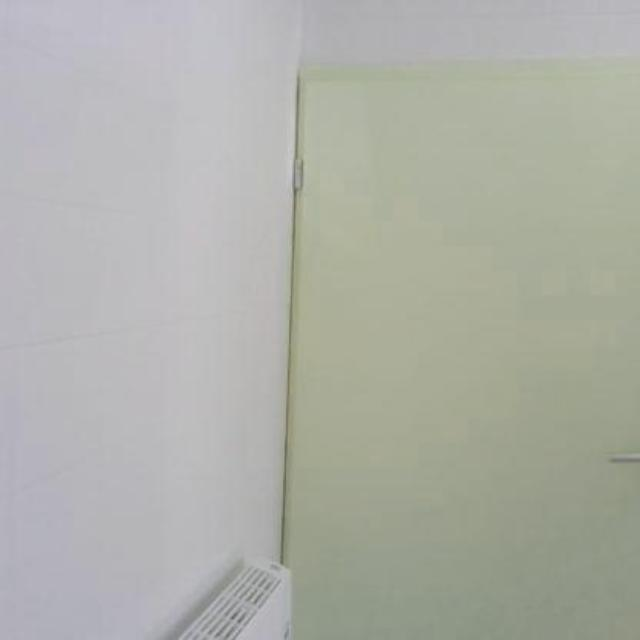door: (278, 54, 638, 638)
